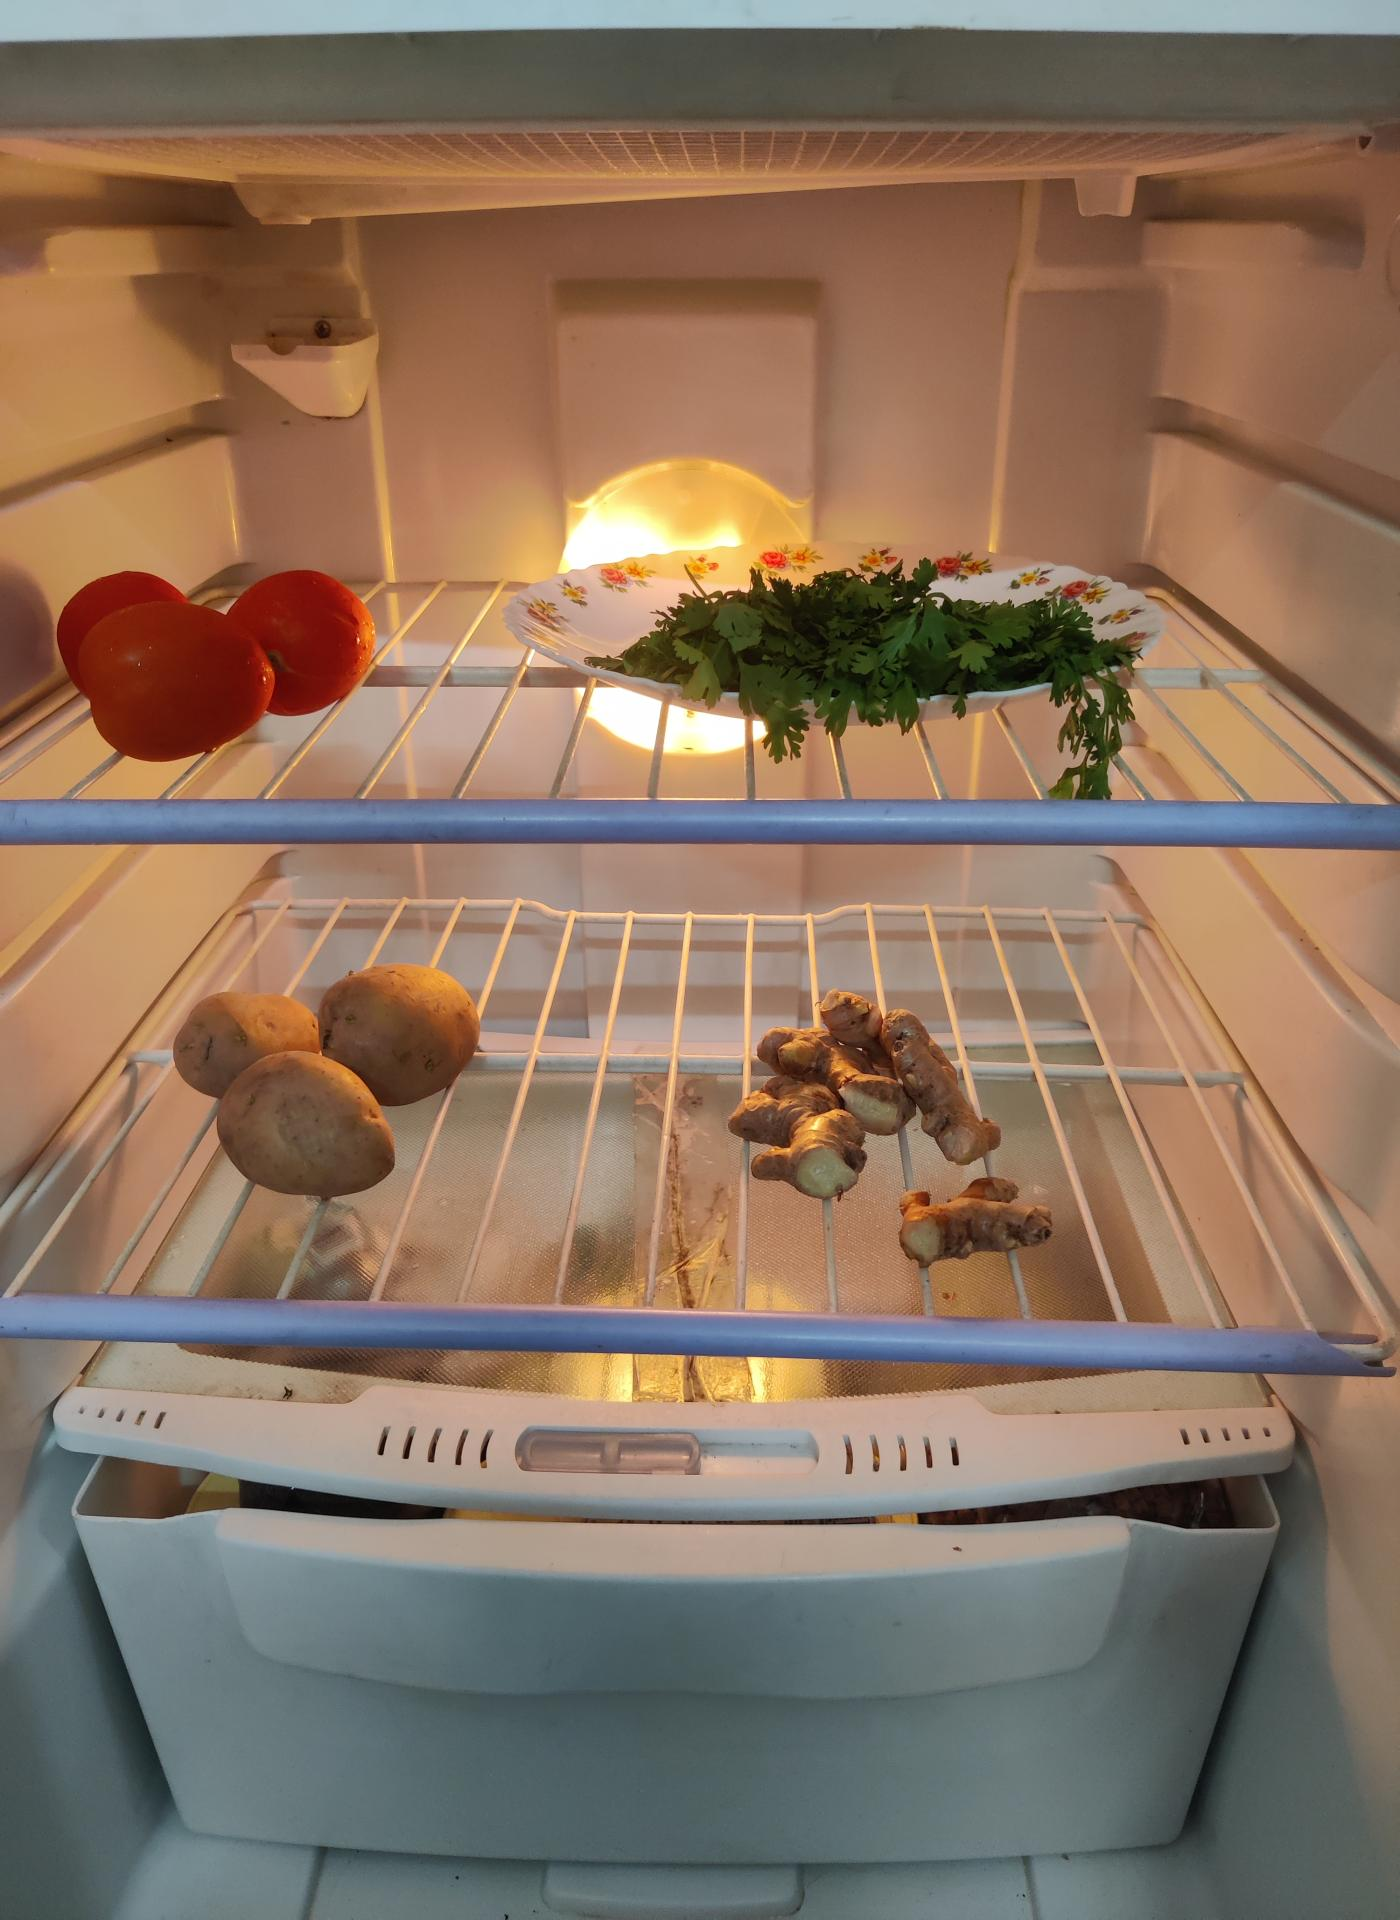coriander: (626, 563, 1150, 735)
ginger: (745, 1006, 1047, 1252)
potato: (168, 966, 479, 1196)
tomato: (55, 565, 370, 757)
